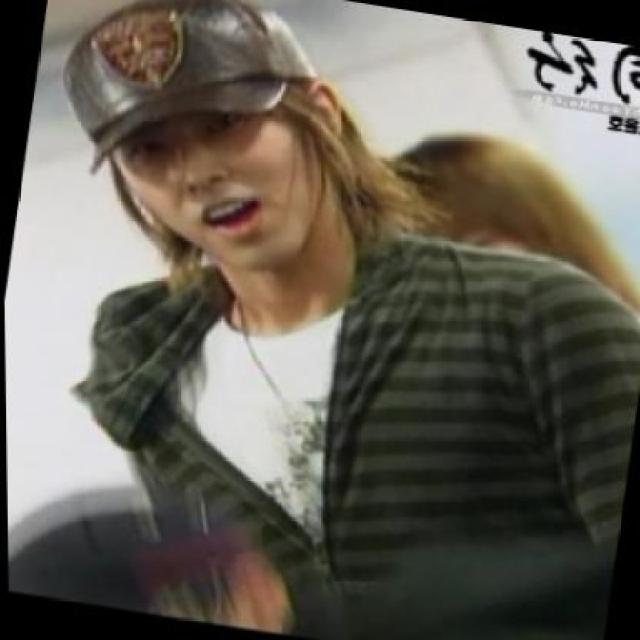hat: (41, 0, 329, 215)
